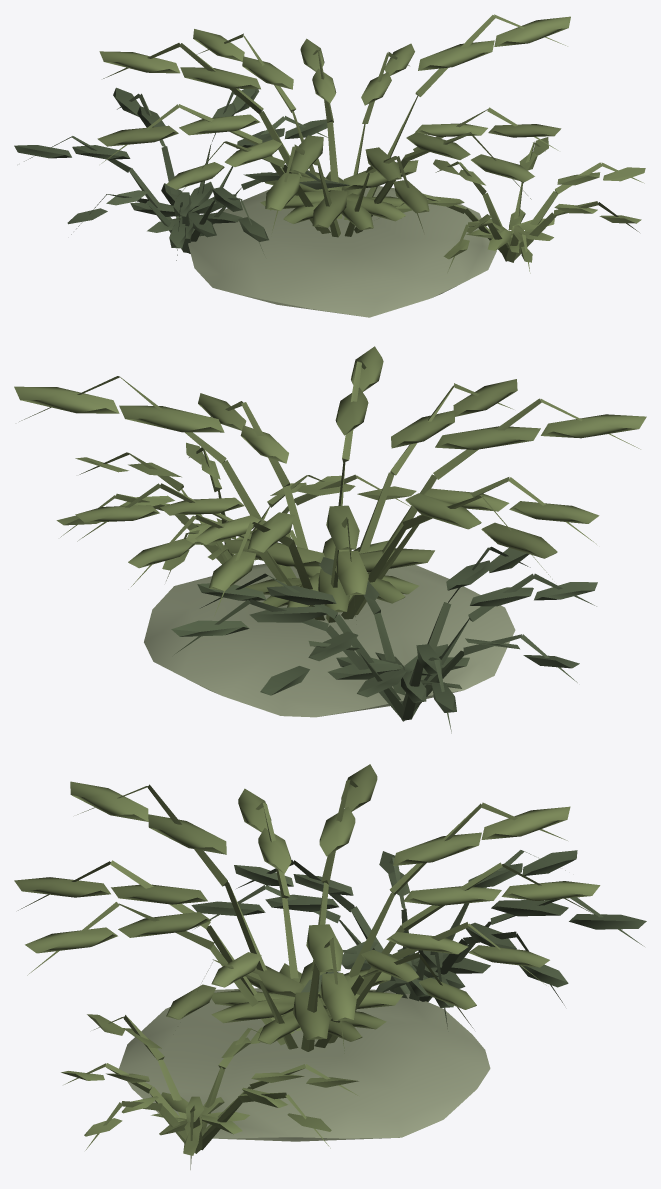
The model's file is cave_fern_b_lod2.glb.
3 views of the same model, one above another, from view 1: azimuth 30°, elevation 25°; view 2: azimuth 150°, elevation 25°; view 3: azimuth 270°, elevation 25° (orthographic). The views are drawn at different scales.
Visible parts, largest first — view 1: Surface.001; view 2: Surface.001; view 3: Surface.001.
Boxes of the visible parts, x1,y1,x2,y2 form: Surface.001: (14, 14, 645, 317); Surface.001: (14, 346, 646, 733); Surface.001: (14, 764, 646, 1169).
Bounding box in the file's own units: 3.22 × 1.27 × 2.92.
